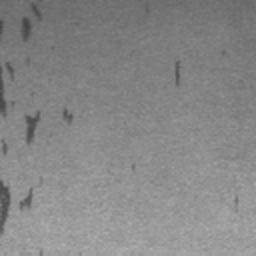Red iron sheet: (0, 180, 33, 234), (0, 60, 17, 115), (20, 3, 42, 44), (24, 109, 42, 142), (61, 109, 74, 124), (175, 60, 180, 87), (0, 19, 5, 41), (232, 196, 241, 207), (1, 141, 8, 155), (129, 161, 137, 173)
